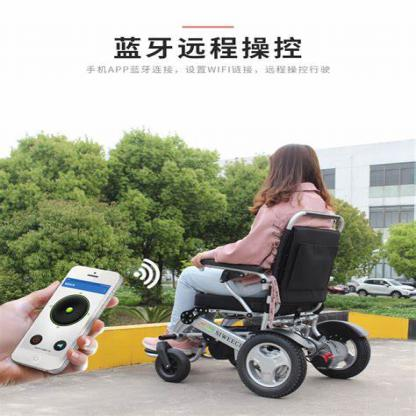wheelchair: (151, 144, 376, 398)
